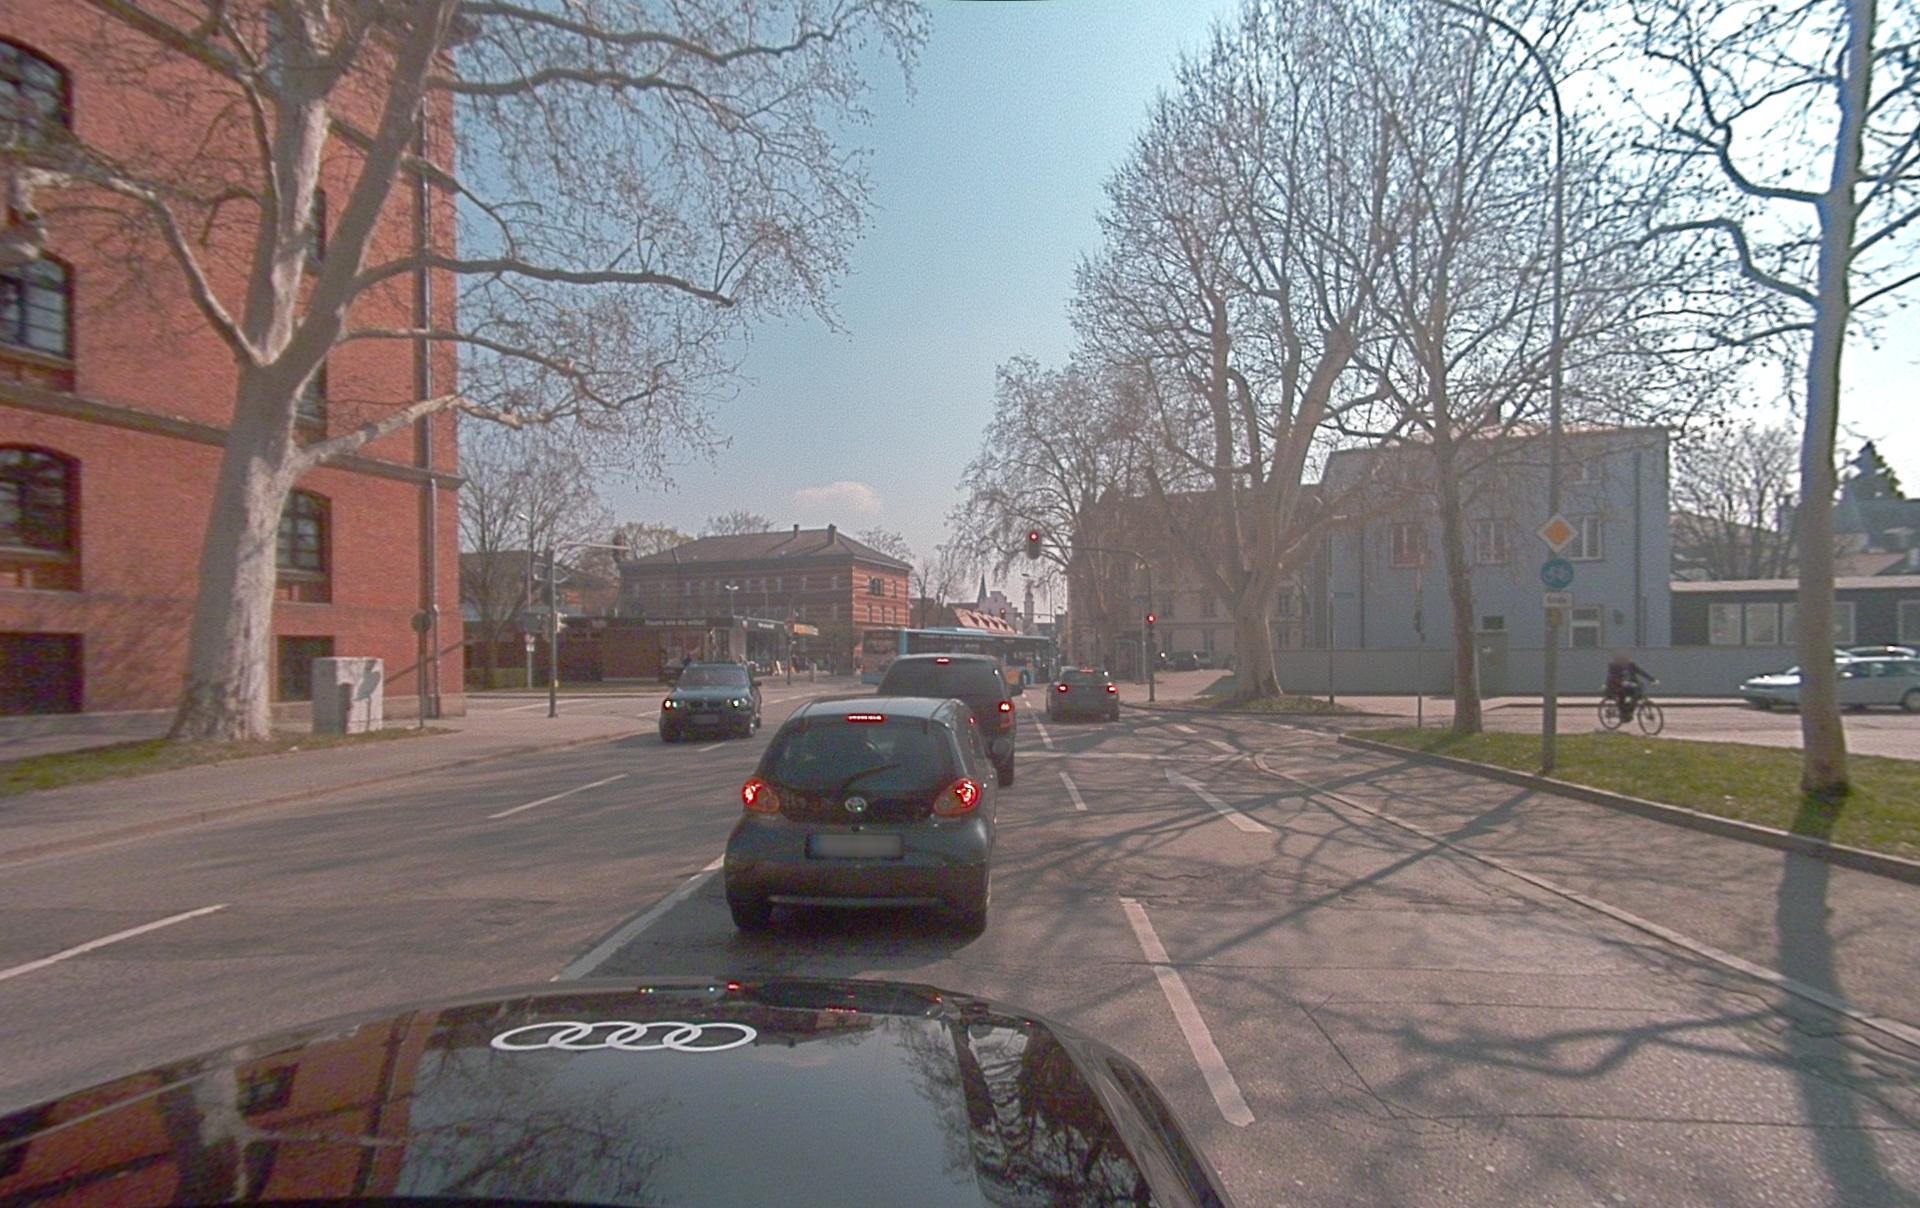car: (0, 976, 1238, 1208), (723, 696, 999, 934), (877, 653, 1016, 788), (1739, 651, 1920, 714), (659, 661, 762, 743), (1046, 665, 1120, 722)
traffic sign: (1540, 557, 1575, 589)
